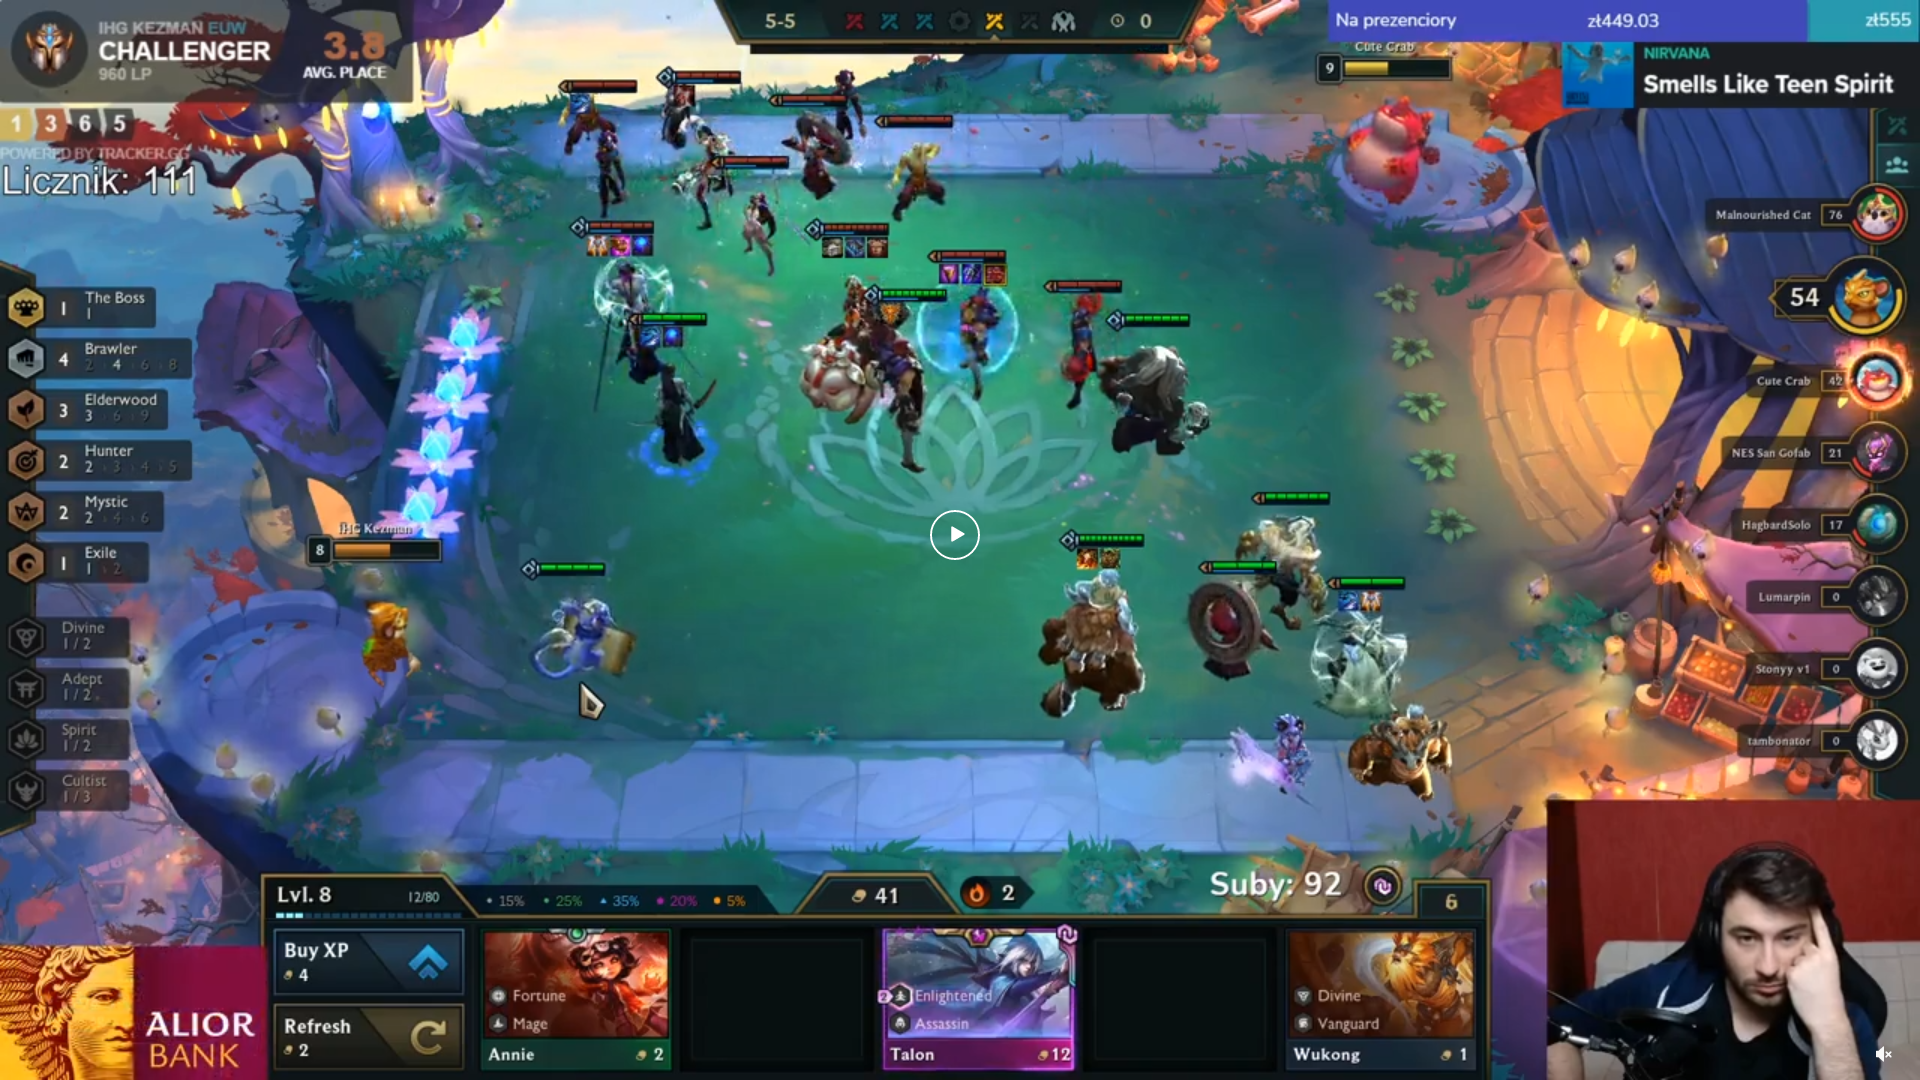1star_ashe: (1302, 566, 1425, 723)
1star_irelia: (703, 149, 798, 287)
1star_jhin: (553, 71, 646, 223)
1star_leesin: (866, 104, 957, 233)
1star_sett: (923, 239, 1013, 415)
1star_shen: (1030, 270, 1127, 417)
1star_warwick: (1212, 476, 1336, 632)
1star_yone: (616, 303, 738, 491)
1star_zilean: (1174, 546, 1298, 702), (764, 83, 858, 222)
2star_jinx: (650, 54, 756, 243)
2star_maokai: (1084, 297, 1218, 473)
2star_nunu: (1010, 520, 1166, 732)
2star_sejuani: (787, 208, 920, 438)
2star_sett: (847, 277, 963, 483), (848, 280, 964, 484)
2star_yone: (553, 208, 713, 419)
2star_yuumi: (508, 543, 649, 694)
item_belt: (822, 233, 844, 258)
item_bluebuff: (662, 323, 684, 348), (632, 233, 654, 258)
item_bramble: (866, 236, 889, 261)
item_chalice: (938, 262, 960, 287)
item_ga: (585, 232, 608, 257), (1360, 588, 1382, 613)
item_giantslayer: (640, 323, 663, 348), (568, 91, 591, 116), (1337, 587, 1360, 612)
item_jeweledgauntlet: (611, 233, 633, 258)
item_locket: (880, 301, 902, 324)
item_morello: (844, 236, 866, 261)
item_sunfire: (1077, 546, 1100, 571)
item_thief: (984, 262, 1007, 287)
item_trapclaw: (960, 261, 982, 286)
item_warmogs: (1098, 545, 1121, 570)
item_zeke: (673, 82, 696, 107)
trait_adept1: (1, 659, 200, 713)
trait_brawler4: (1, 332, 200, 386)
trait_cultist1: (1, 760, 200, 814)
trait_divine1: (1, 611, 200, 665)
trait_elderwood3: (1, 382, 200, 436)
trait_exile1: (1, 533, 200, 587)
trait_hunter2: (1, 431, 200, 485)
trait_mystic2: (1, 481, 200, 535)
trait_spirit1: (1, 712, 200, 766)
trait_theboss1: (1, 278, 200, 332)
